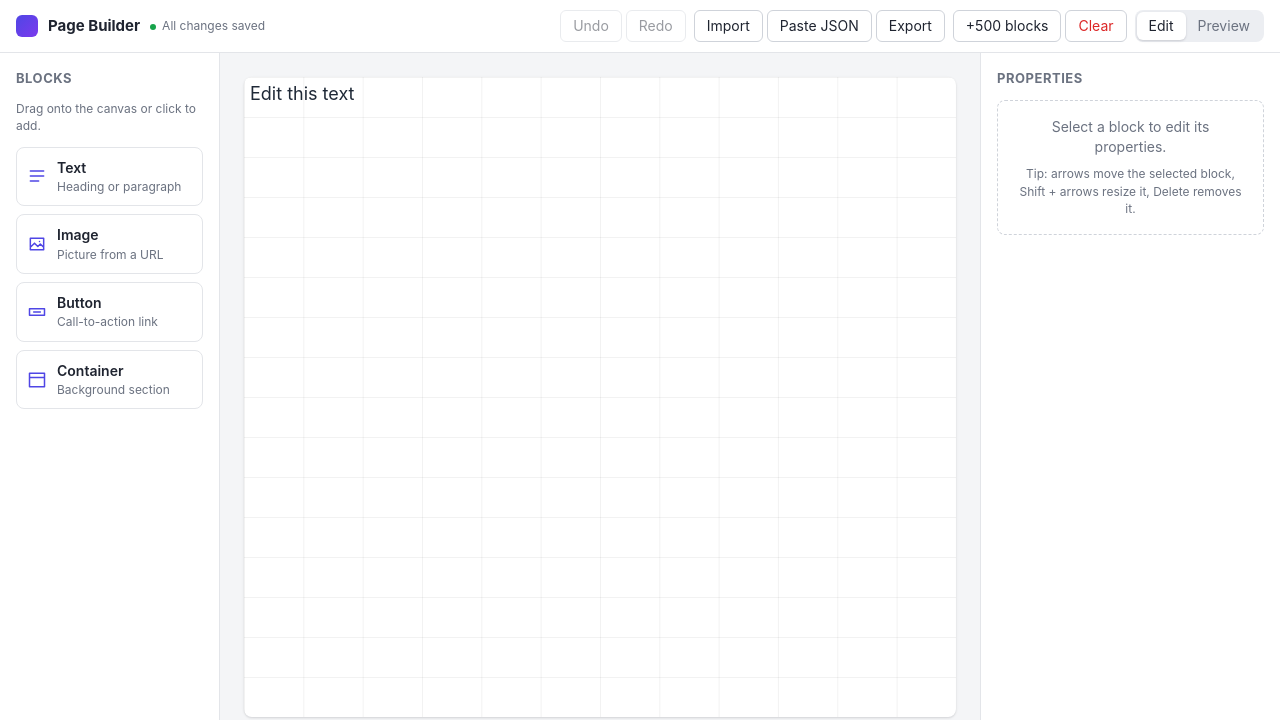
it: keyboard shortcuts › delete the selected block in edit mode
The image size is (1280, 720).
Focus the element with class "block" at (302,94), box [250,83,354,104]
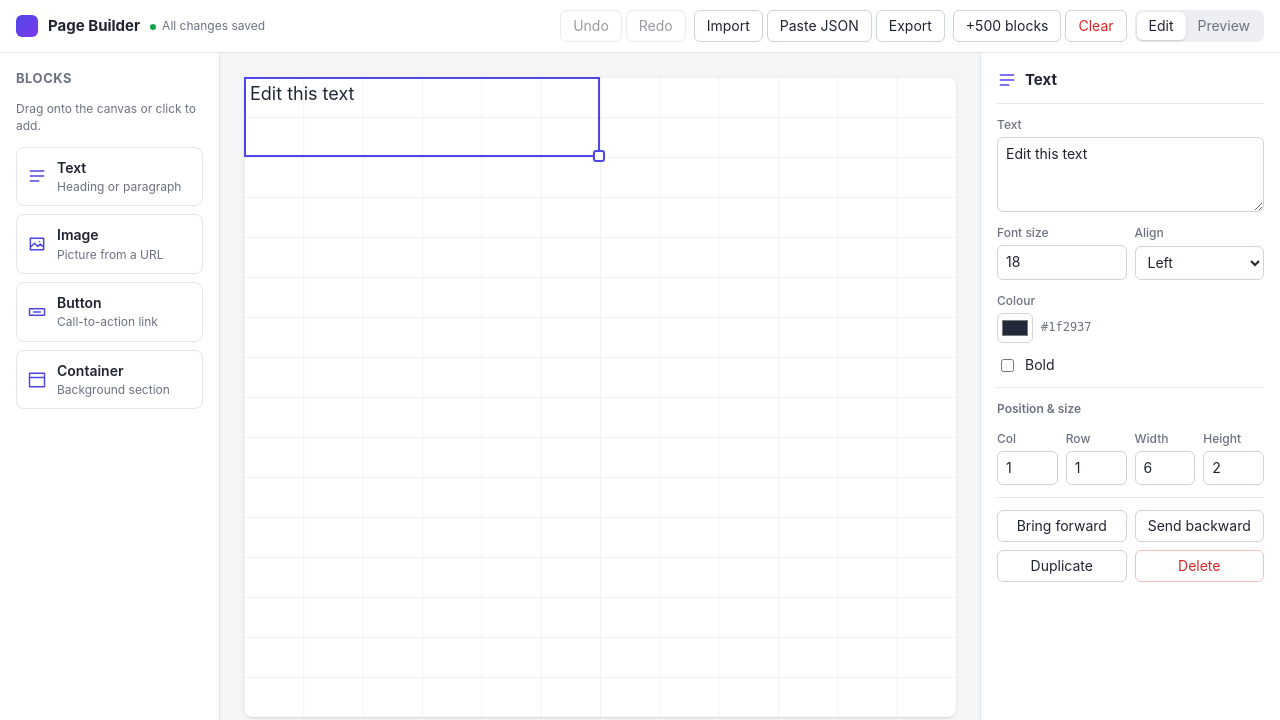
Press Delete
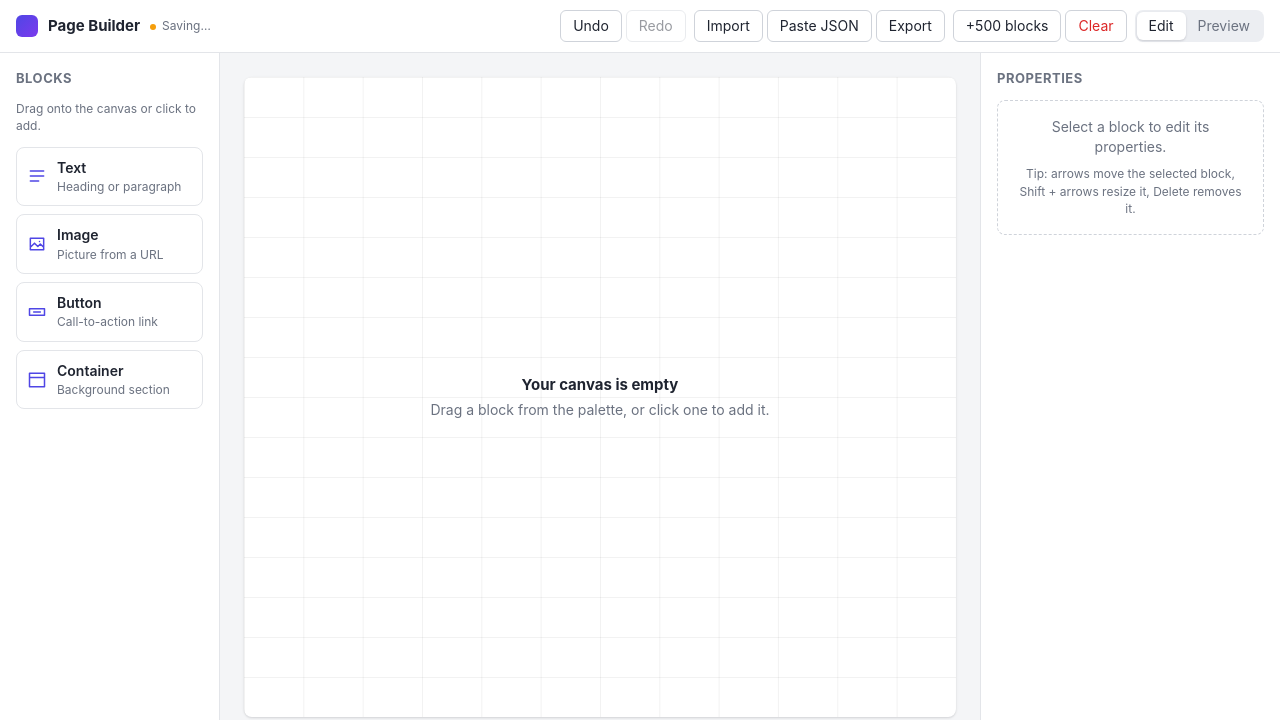
Result: the text "Your canvas is empty" is shown at [522,375,678,394]
